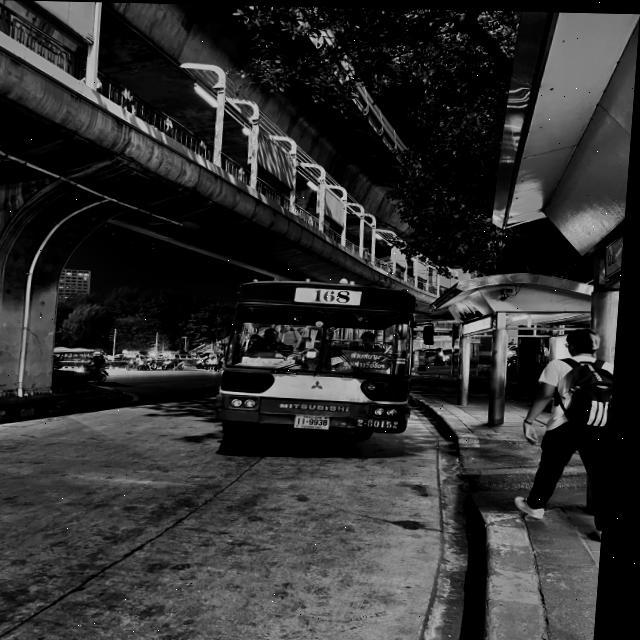BMTA-bus: (220, 277, 424, 441)
Bus-Line-Number: (313, 286, 359, 303)
Destination-Sign-Normal: (344, 348, 395, 371)
